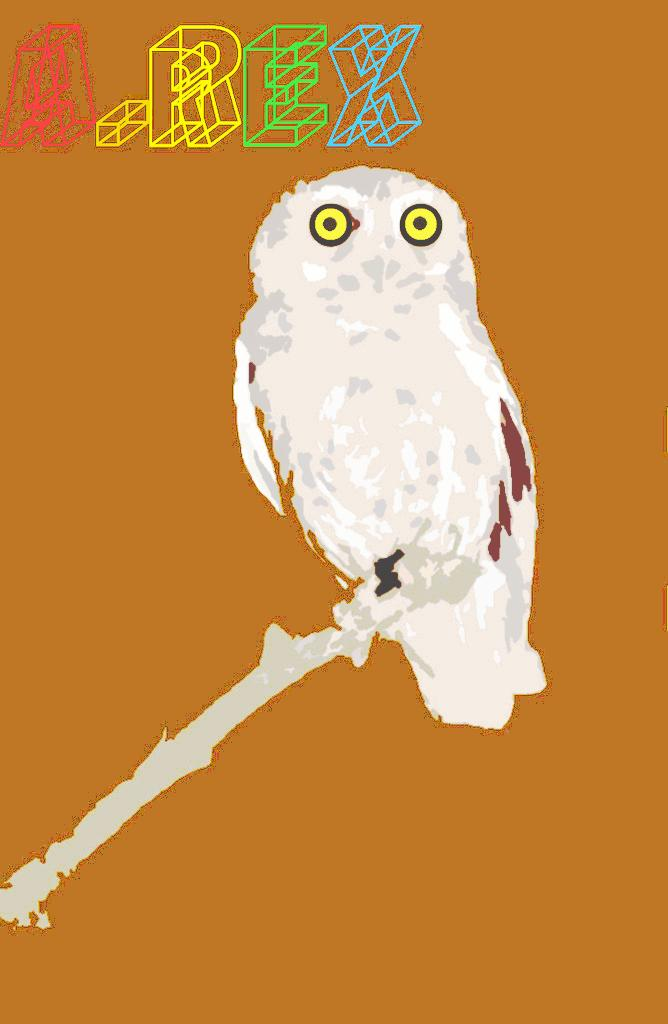Owl: (231, 165, 543, 732)
